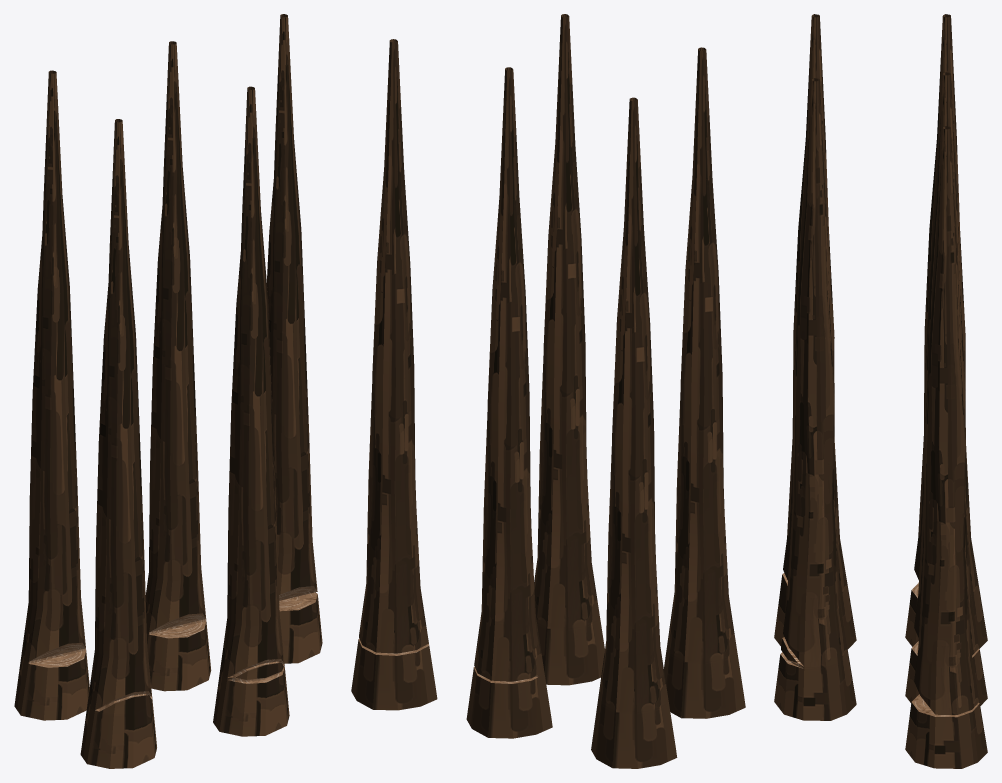
The model's file is treeCut_all.fbx.
The picture shows the model from 3 angles, left to right: view 1: azimuth 30°, elevation 25°; view 2: azimuth 150°, elevation 25°; view 3: azimuth 270°, elevation 25°; orthographic projection. The views are drawn at different scales.
Parts seen in each view (by area): view 1: trunkWedge_StraightDmg, trunkWedge_45Dmg, trunkWedge, trunk_fullcut, trunkTop, trunkStump; view 2: trunk_fullcut, trunkWedge, trunkWedge_45Dmg, trunkWedge_StraightDmg, trunkTop, trunkStump; view 3: trunkWedge_StraightDmg, trunkTop, trunkWedge_45Dmg, trunkWedge, trunk_fullcut, trunkStump.
Boxes of the visible parts, box(x1,y1,x2,y2) form: trunkWedge_StraightDmg: box(213, 86, 289, 736); trunkWedge_45Dmg: box(80, 119, 156, 768); trunkWedge: box(14, 70, 89, 720); trunk_fullcut: box(145, 41, 211, 691); trunkTop: box(267, 14, 317, 600); trunkStump: box(279, 592, 322, 663); trunk_fullcut: box(466, 67, 552, 738); trunkWedge: box(591, 97, 677, 768); trunkWedge_45Dmg: box(664, 47, 745, 718); trunkWedge_StraightDmg: box(534, 14, 604, 685); trunkTop: box(359, 39, 428, 653); trunkStump: box(351, 638, 437, 710); trunkWedge_StraightDmg: box(774, 78, 856, 720); trunkTop: box(914, 126, 979, 714); trunkWedge_45Dmg: box(774, 14, 856, 649); trunkWedge: box(905, 14, 987, 648); trunk_fullcut: box(905, 72, 987, 705); trunkStump: box(905, 694, 987, 768).
Size of the model in its own units: 228 by 455 by 141.
